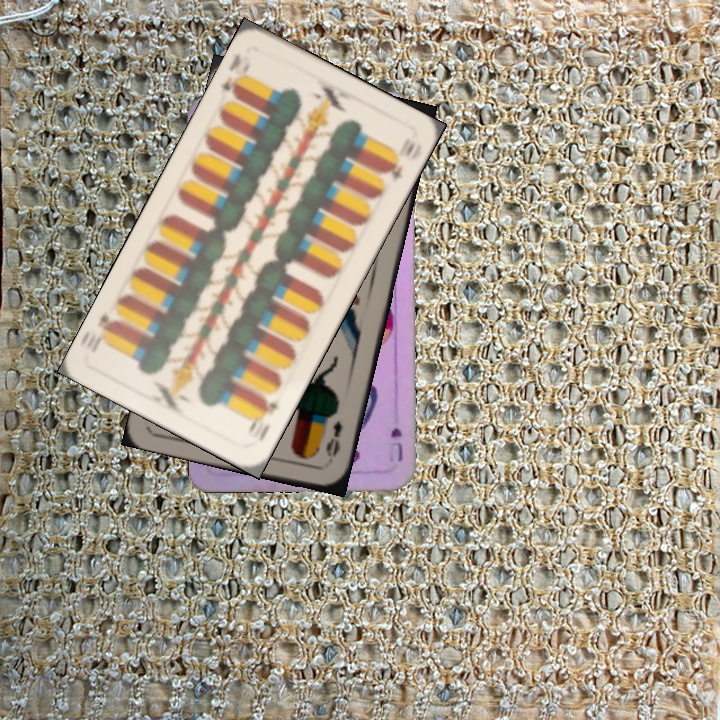E10: (216, 50, 254, 102), (244, 392, 280, 445)
EO: (321, 416, 345, 460)
SU: (384, 423, 405, 464)
